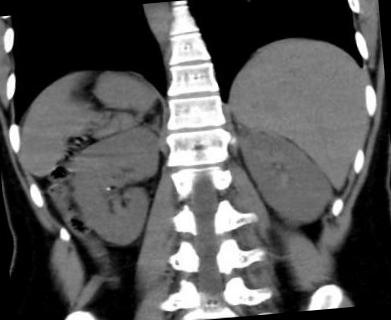Tas_Var: (105, 186, 112, 192)
